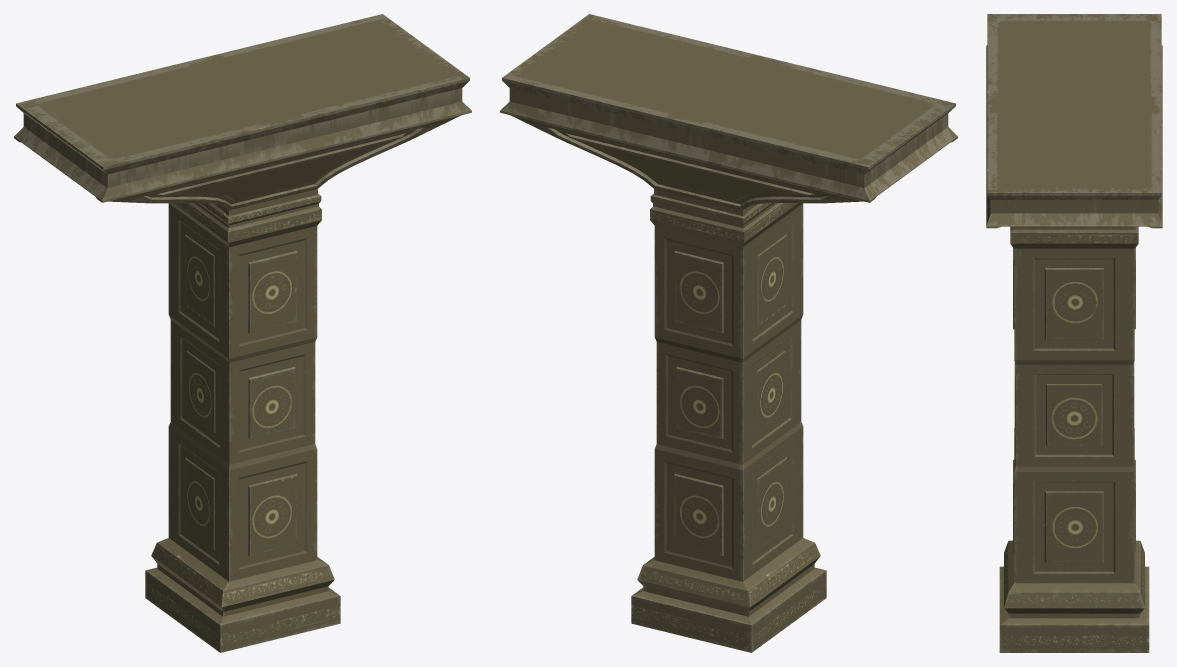
File: BIG PILLAR A.fbx
The picture shows the model from 3 angles, left to right: view 1: azimuth 30°, elevation 25°; view 2: azimuth 150°, elevation 25°; view 3: azimuth 270°, elevation 25°; orthographic projection.
Parts seen in each view (by area): view 1: BIG PILLAR A; view 2: BIG PILLAR A; view 3: BIG PILLAR A.
Part boxes in pixels (x1,y1,x2,y2): BIG PILLAR A: [14, 14, 471, 652]; BIG PILLAR A: [500, 14, 957, 652]; BIG PILLAR A: [986, 14, 1162, 652].
Size of the model in its own units: 9.27 by 12.47 by 3.83.
